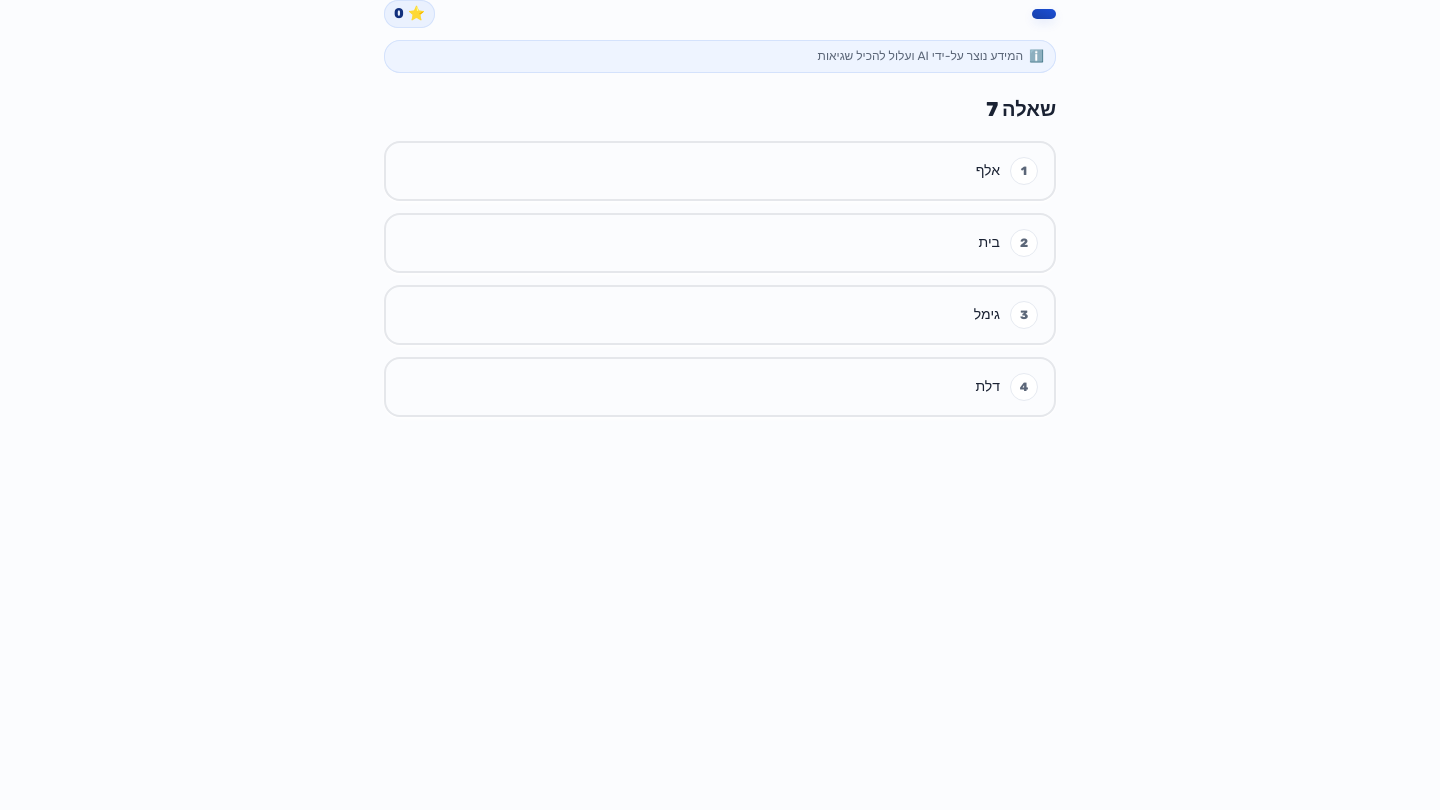
Test: LessonPlayer › תשובה שגויה → bottom-sheet + mascot + התשובה הנכונה
This screenshot has width=1440, height=810.
Click the radio button with test id "mcq-option-0" at point(720, 171), box [384,141,1056,201]
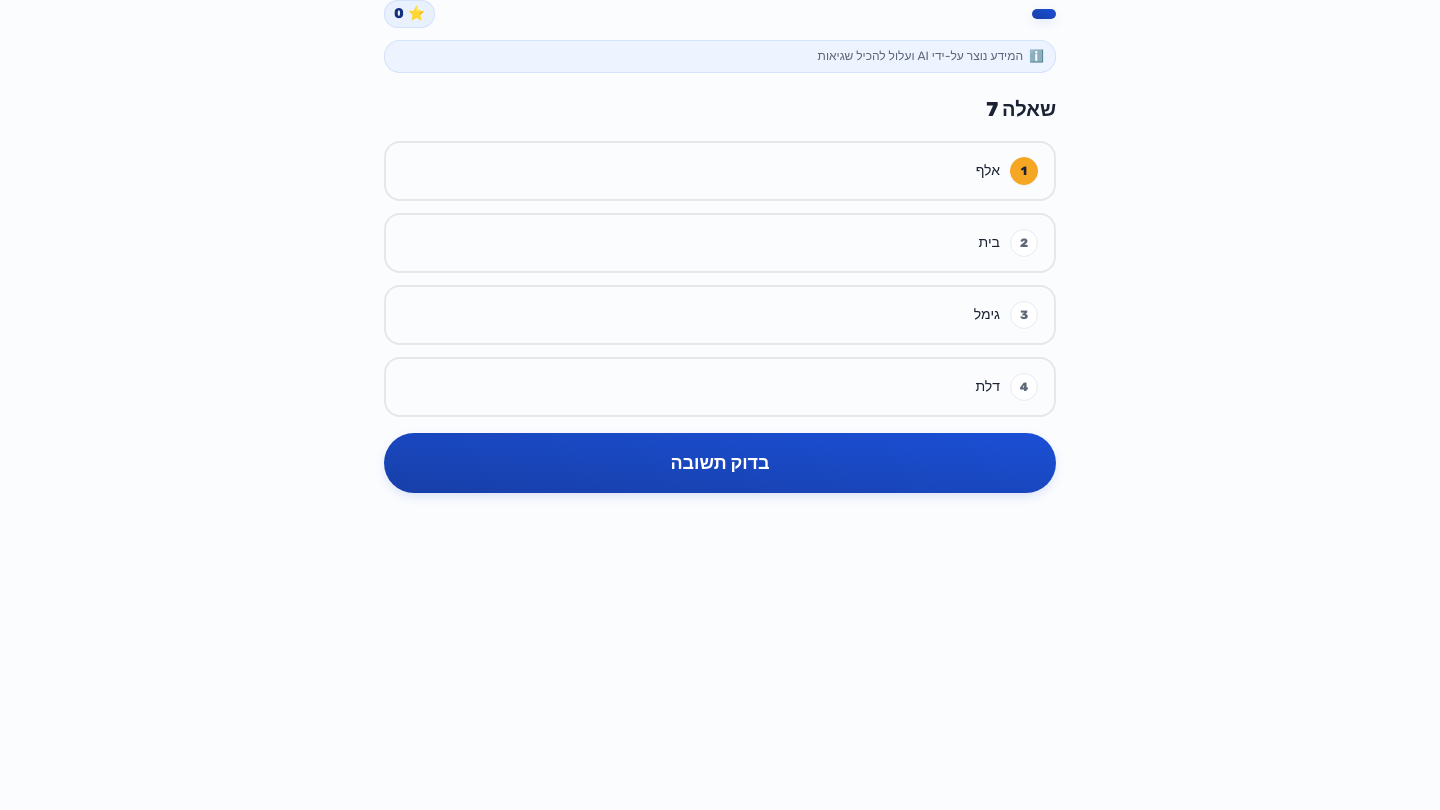
Click the button with test id "check-answer-button" at point(720, 463), box [384,433,1056,493]
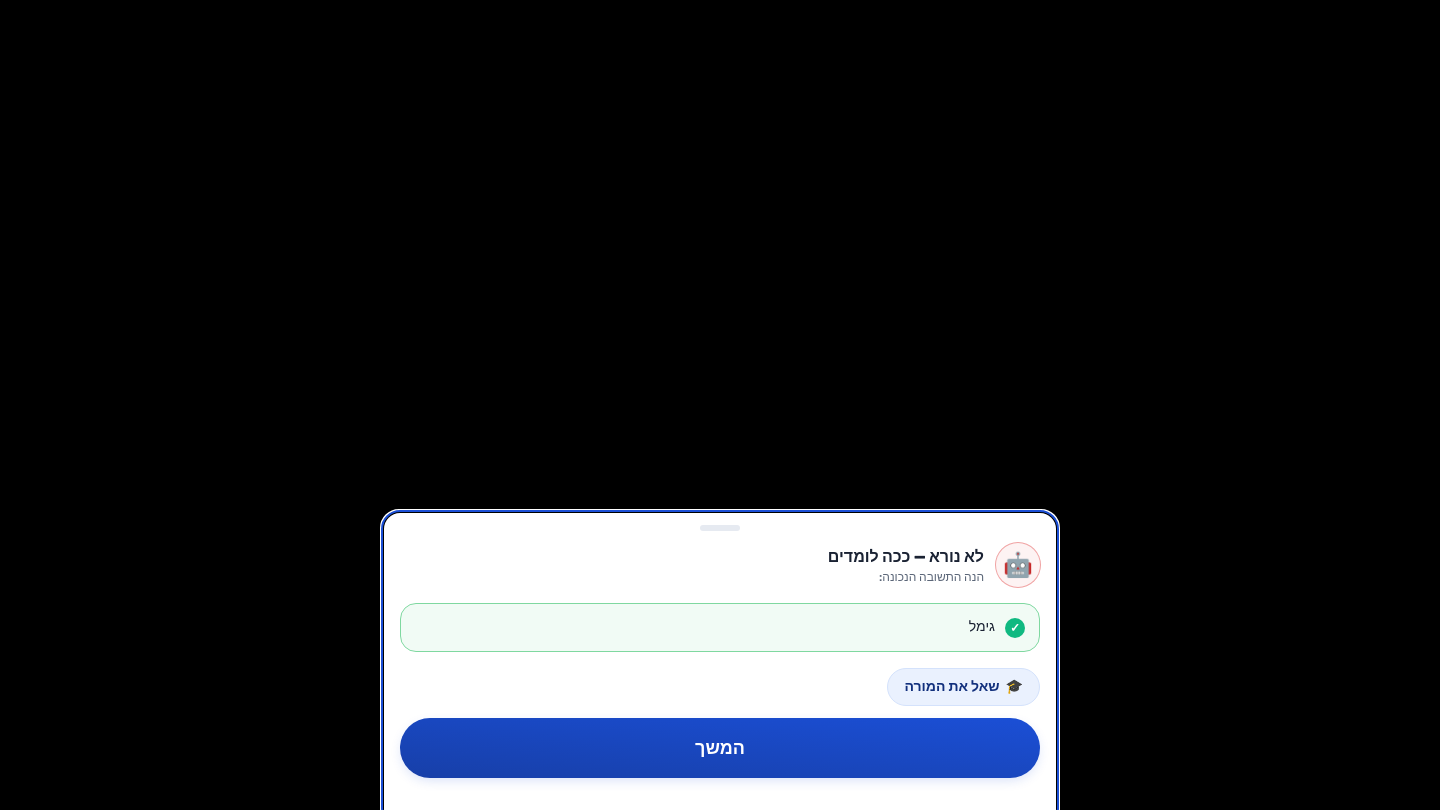
Result: the dialog with test id "feedback-wrong" is shown at [384,513,1056,809]
Result: the text "🤖" is shown at [996,543,1040,587]
Result: the text with test id "correct-answer-text" reads "גימל" at [969,618,995,635]
